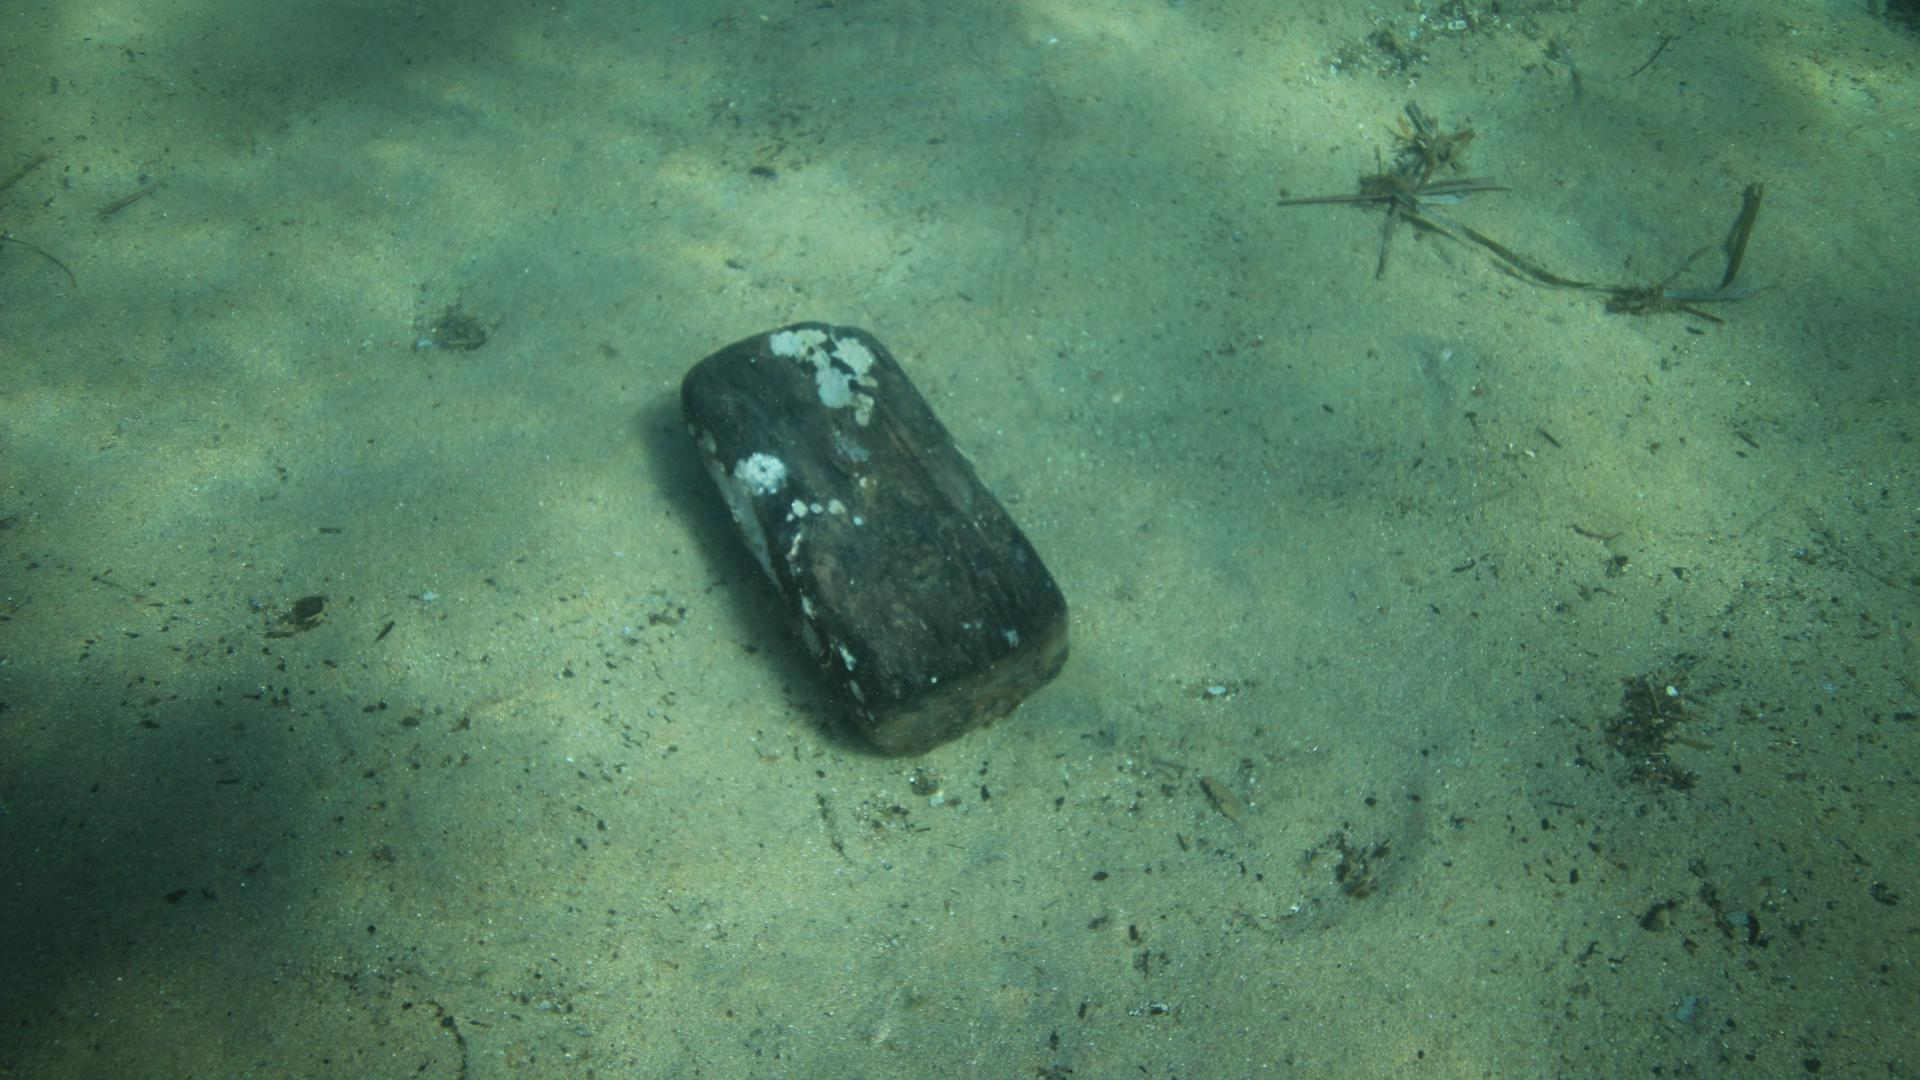wood: (678, 319, 1071, 757)
